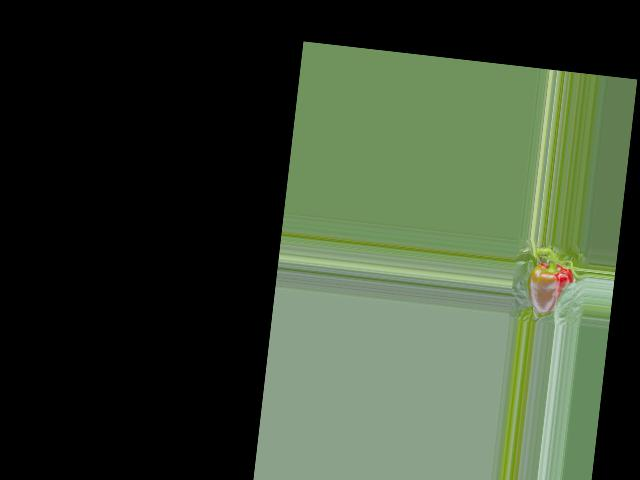bell_pepper: (519, 253, 577, 320)
